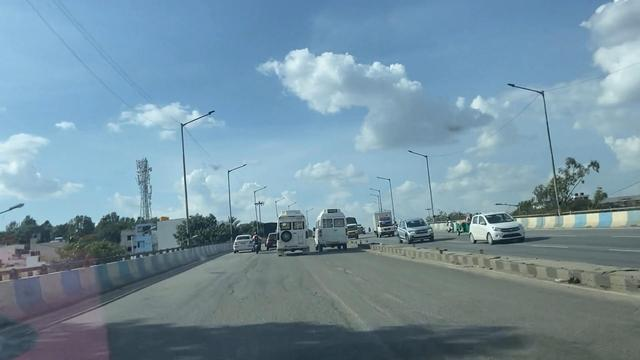HMV: (275, 209, 316, 257), (319, 203, 348, 249)
RoadDamages: (231, 269, 437, 349)
